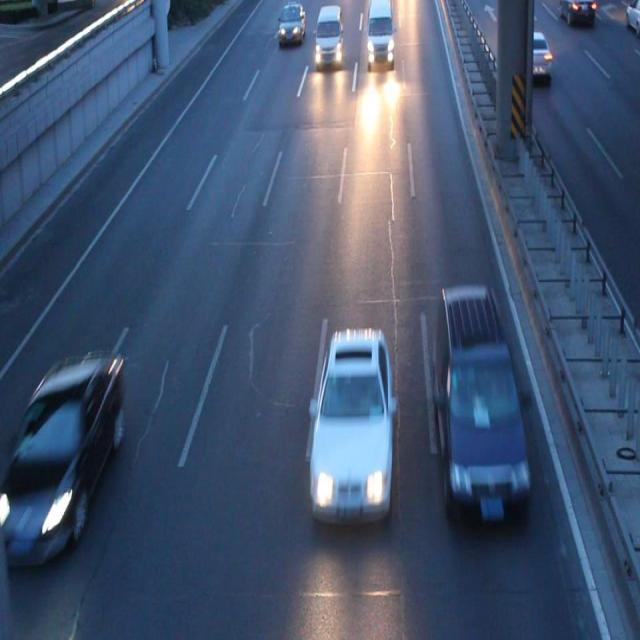car: (1, 357, 120, 546), (312, 330, 391, 516), (512, 34, 550, 76), (279, 1, 304, 42), (558, 1, 594, 27)
truck: (432, 288, 531, 518), (366, 1, 394, 62), (315, 1, 342, 63)
